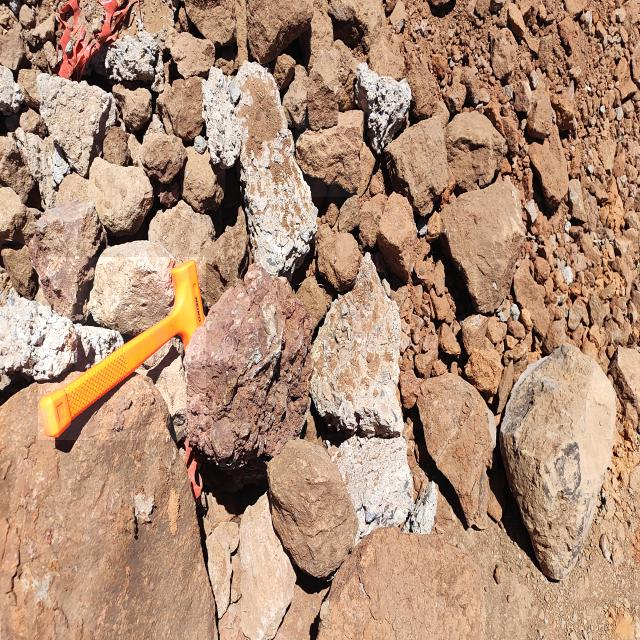Orange_hammer: (38, 257, 206, 440)
rock: (498, 340, 628, 569), (269, 434, 354, 567), (295, 112, 365, 197)
